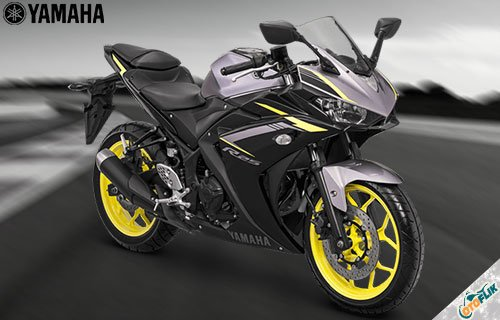motor: (81, 18, 424, 314)
